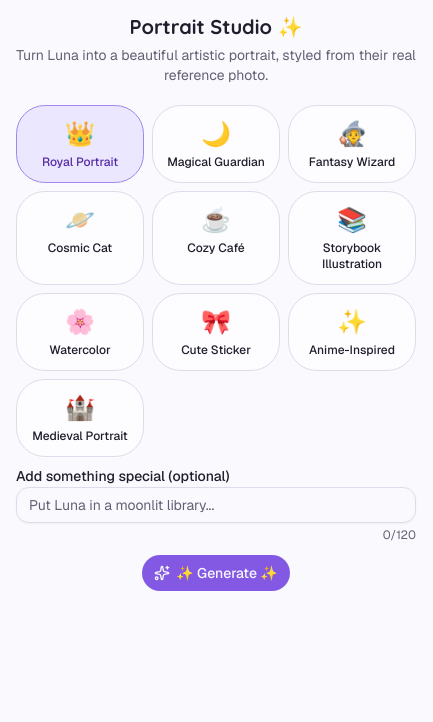
Test: PortraitStudio › shows a rate-limited message distinctly
This screenshot has width=433, height=722.
Click the button "✨ Generate ✨" at coordinates (216, 573), box top-left (142, 555), bottom-right (290, 591)
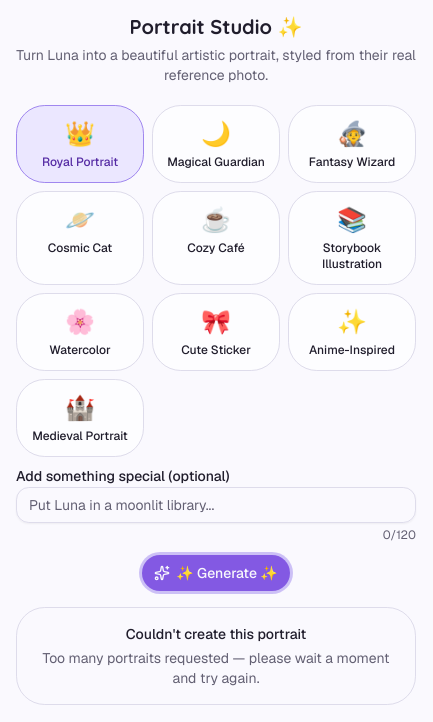
Check: the message shows "please wait a moment", box top-left (42, 649), bottom-right (389, 687)
